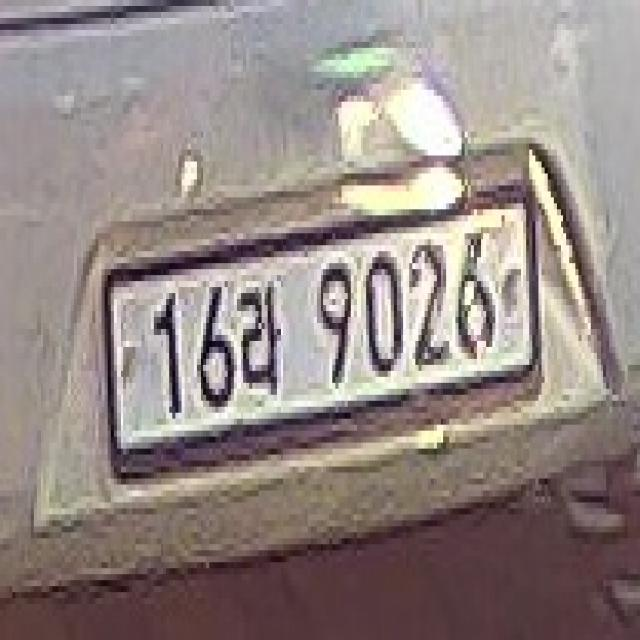0: (354, 239, 406, 401)
1: (151, 281, 194, 443)
2: (406, 233, 456, 389)
6: (456, 221, 502, 377), (194, 275, 237, 431)
9: (314, 245, 357, 407)
la: (234, 275, 289, 419)
license_plate: (92, 174, 545, 508)
